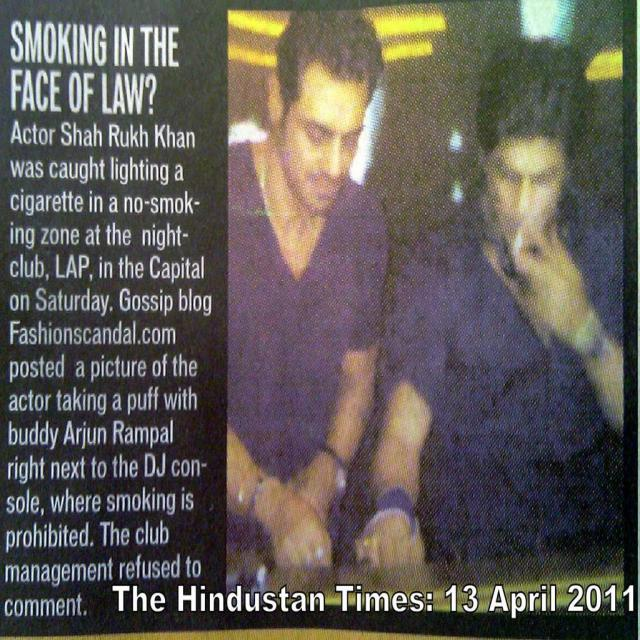smoking: (450, 24, 601, 358)
